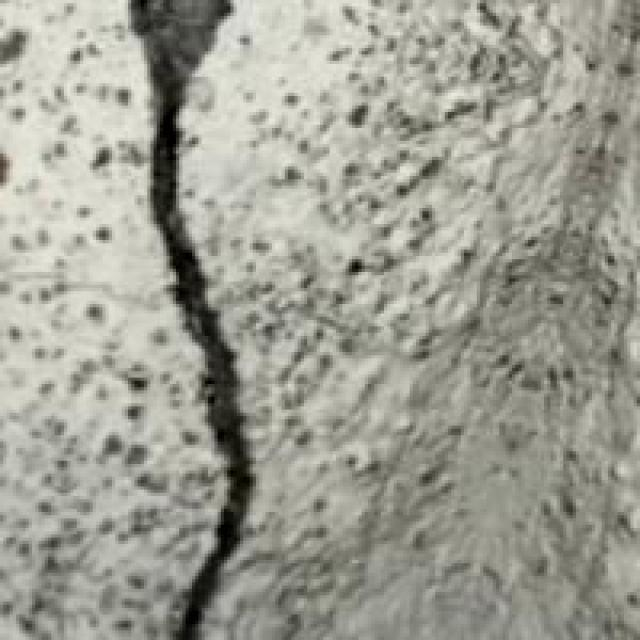crack: (104, 0, 304, 640)
